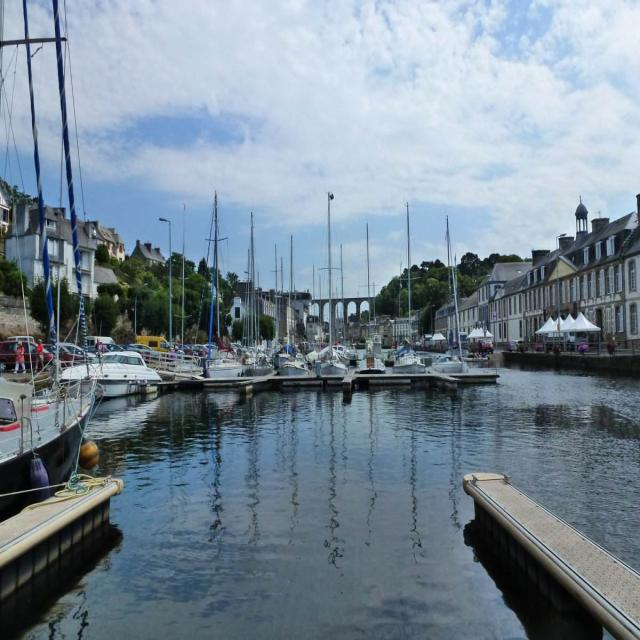passenger ship: (61, 322, 145, 393), (425, 340, 491, 392)
